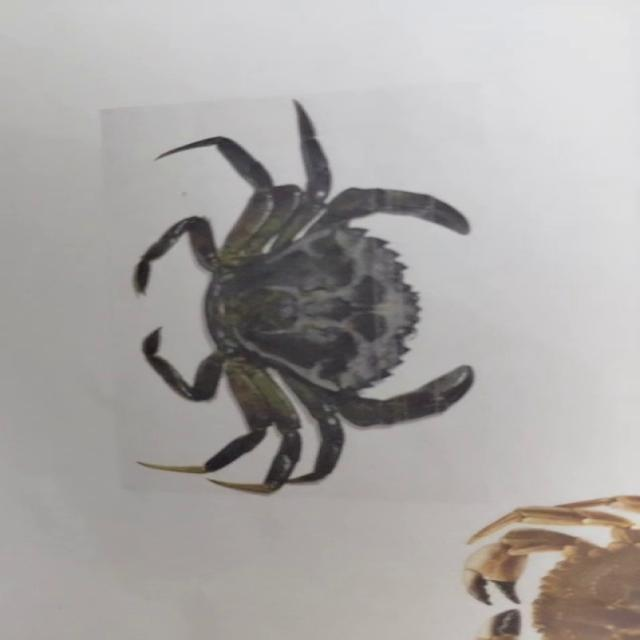egc: (133, 101, 473, 493)
